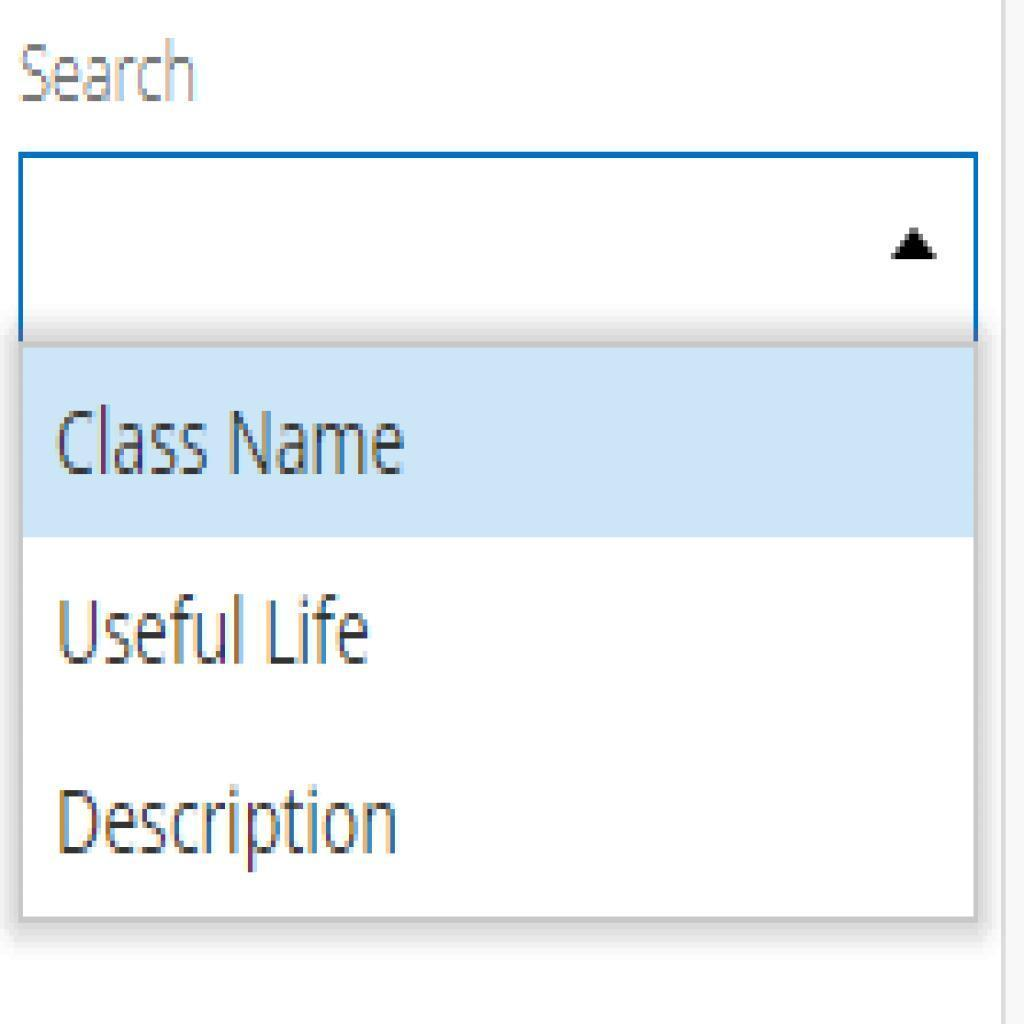button: (24, 344, 974, 538)
dropdown: (20, 153, 975, 345)
label: (58, 580, 368, 682), (58, 777, 402, 867)
